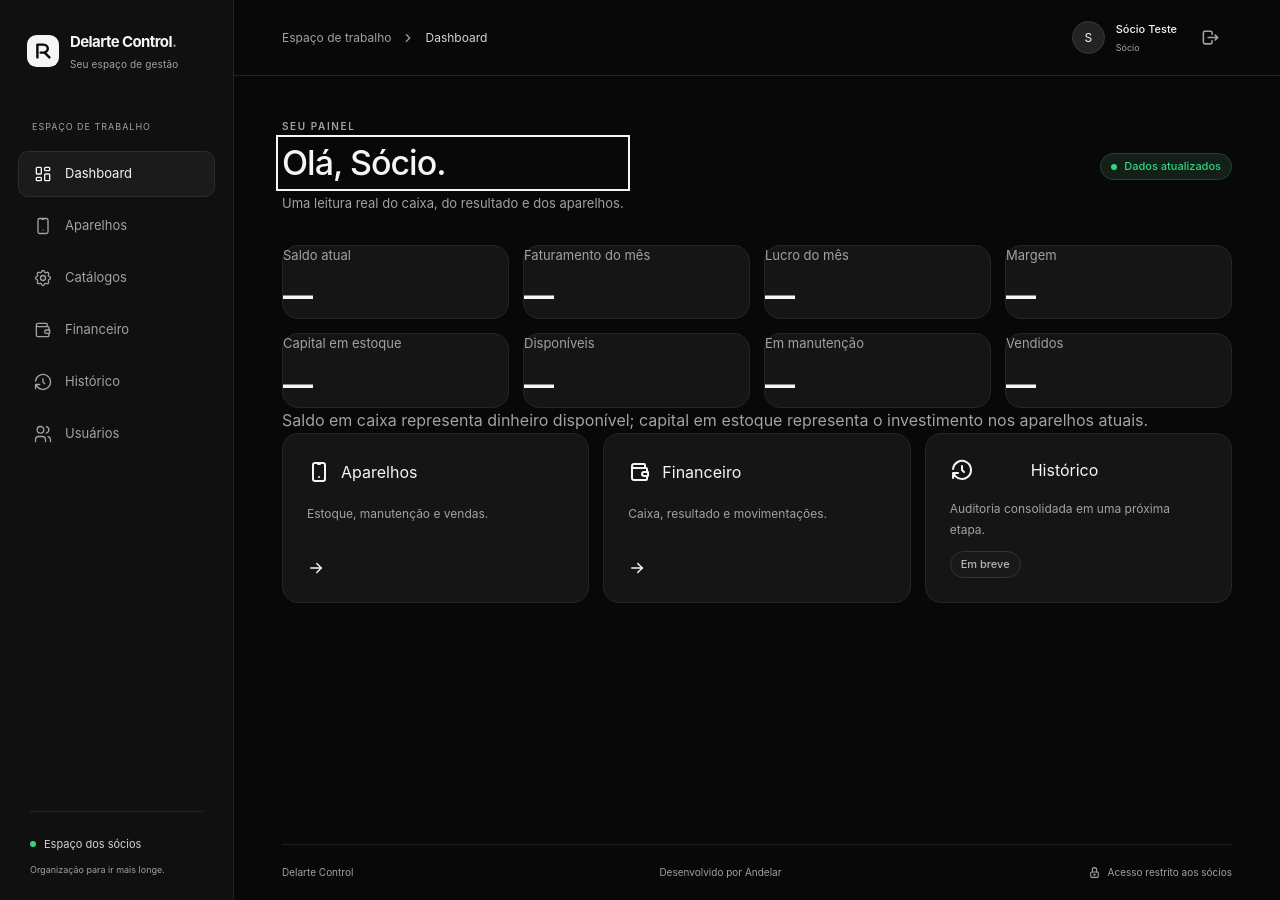
Test: authentication and routing › clears locally on logout network failure and explains remote uncertainty
This screenshot has width=1280, height=900.
Expected: the heading "Olá, Sócio." is shown, [282,142,446,183]
Click the button named "Sair" at (1210, 38), box [1188,16,1232,60]
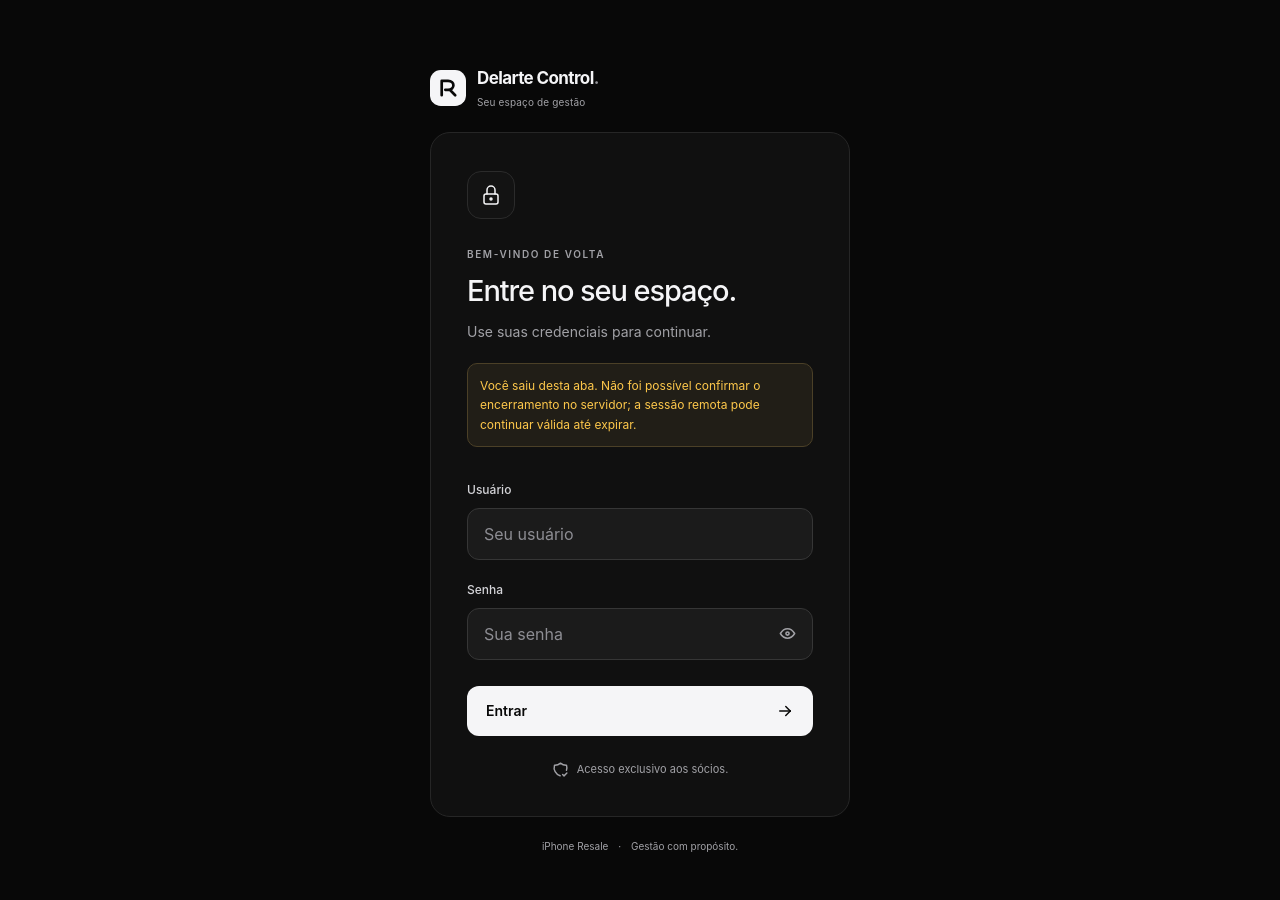
Expected: the text "Não foi possível confirmar o encerramento" is shown, [480,378,760,432]
